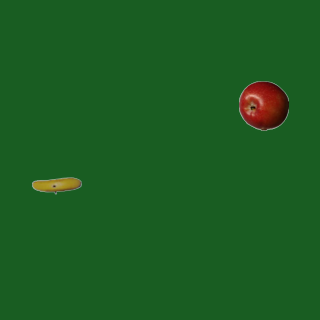Apple Braeburn: (238, 80, 288, 130)
Banana: (31, 160, 81, 210)
